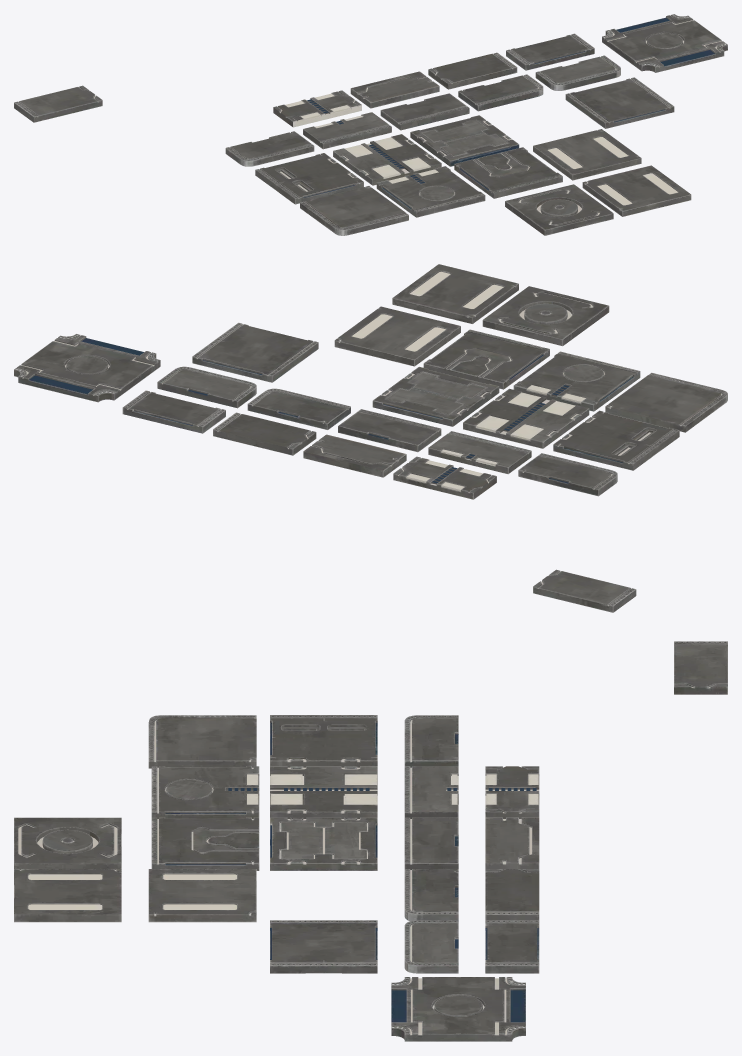
File: floor-modular.glb
The picture shows the model from 3 angles, top to bottom: view 1: azimuth 30°, elevation 25°; view 2: azimuth 150°, elevation 25°; view 3: azimuth 270°, elevation 25°; orthographic projection. The views are drawn at different scales.
Parts seen in each view (by area): view 1: Cube.000__0; view 2: Cube.000__0; view 3: Cube.000__0.
Part boxes in pixels (x1,y1,x2,y2): Cube.000__0: [14, 14, 727, 235]; Cube.000__0: [14, 264, 727, 612]; Cube.000__0: [14, 641, 727, 1041].
Bounding box in the file's own units: 6.9 × 0.0657 × 5.3.
Materials: 1 (1 with a texture image).
